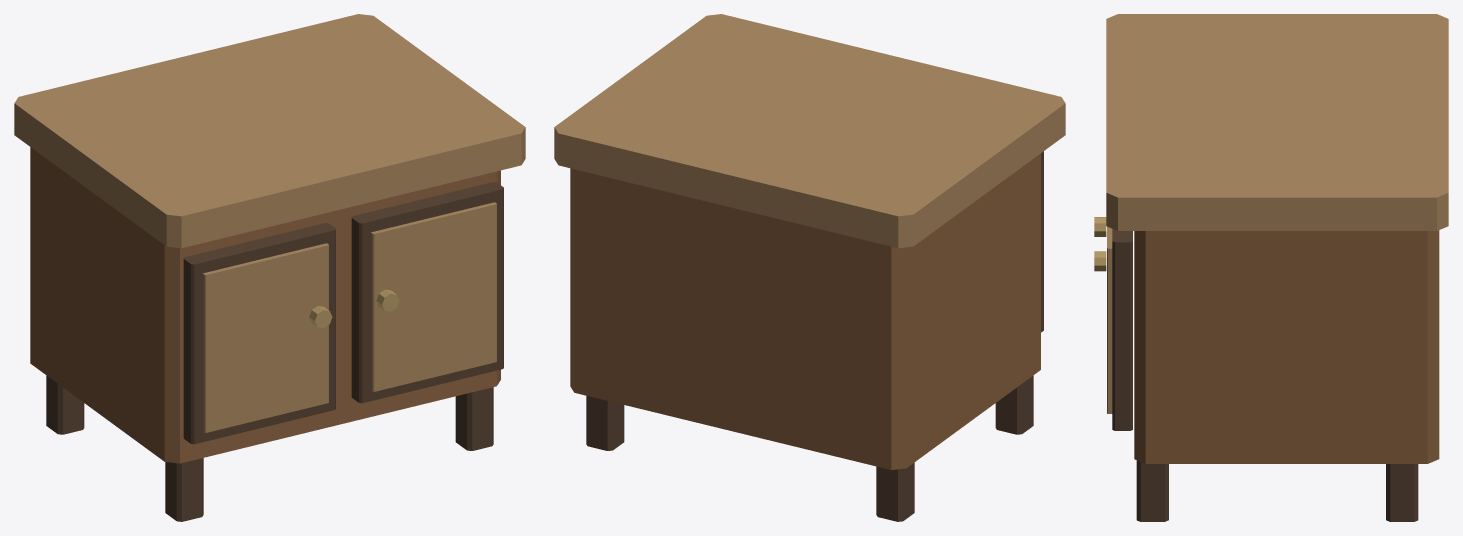
File: cabinet_low.glb
3 renders of one model, left to right at view 1: azimuth 30°, elevation 25°; view 2: azimuth 150°, elevation 25°; view 3: azimuth 270°, elevation 25°, orthographic. The views are drawn at different scales.
Parts seen in each view (by area): view 1: geometry; view 2: geometry; view 3: geometry.
Boxes of the visible parts, <box> form: geometry: <box>14,14,525,521</box>; geometry: <box>554,14,1065,521</box>; geometry: <box>1094,14,1448,521</box>.
Bounding box in the file's own units: 0.94 × 0.8 × 0.766.
